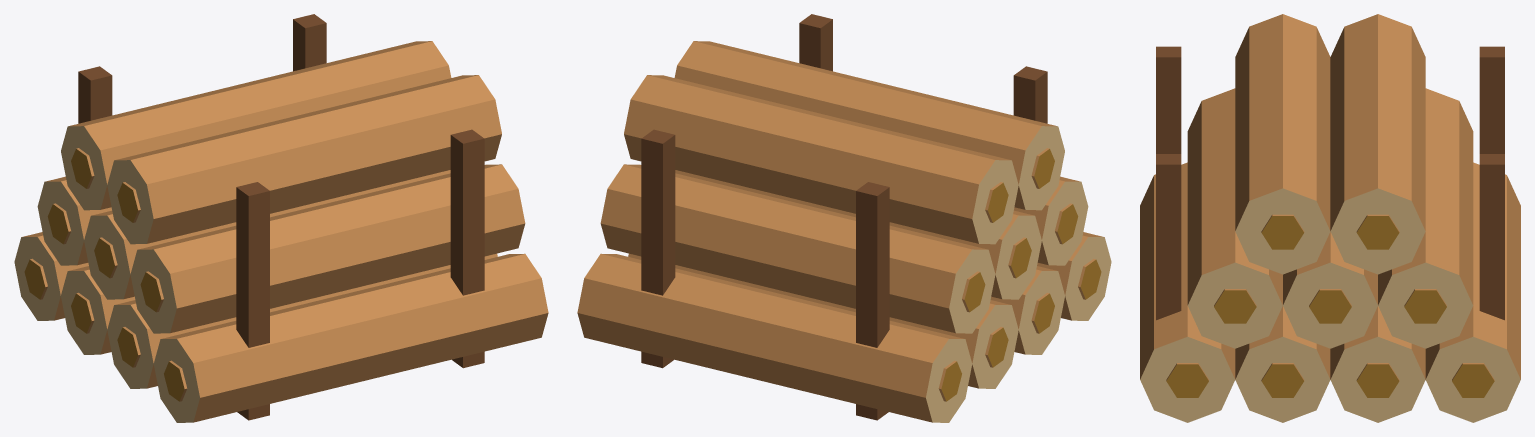
The model's file is prop_logs_l.fbx.
The picture shows the model from 3 angles, left to right: view 1: azimuth 30°, elevation 25°; view 2: azimuth 150°, elevation 25°; view 3: azimuth 270°, elevation 25°; orthographic projection. The views are drawn at different scales.
Parts seen in each view (by area): view 1: prop_logs_l; view 2: prop_logs_l; view 3: prop_logs_l.
Part boxes in pixels (x1,y1,x2,y2): prop_logs_l: [14, 14, 548, 422]; prop_logs_l: [577, 14, 1111, 422]; prop_logs_l: [1140, 14, 1520, 422].
Size of the model in its own units: 0.3168 by 0.1958 by 0.288.
